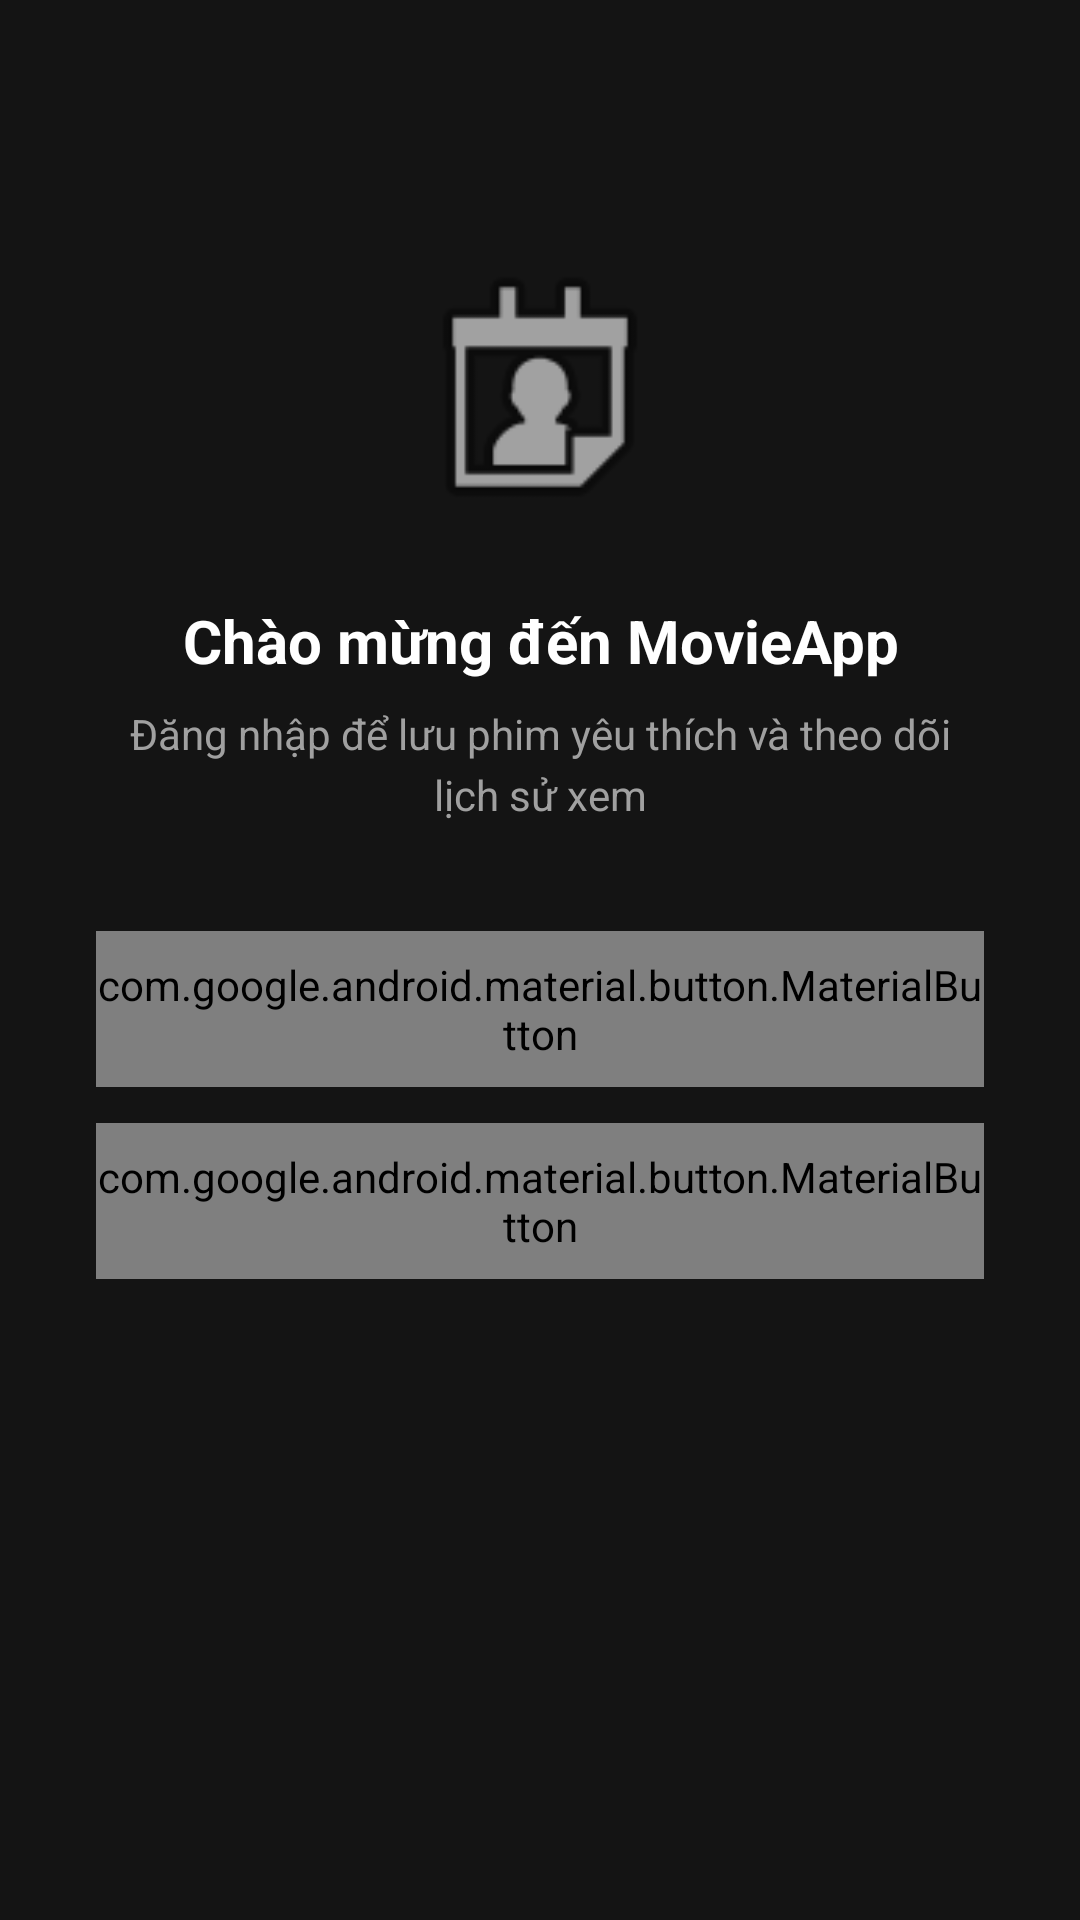

Icon bounding boxes for this 1080px x 1920px phone screenshot, format (x1, y1, x2, y2):
calendar: (452, 286, 628, 488)
